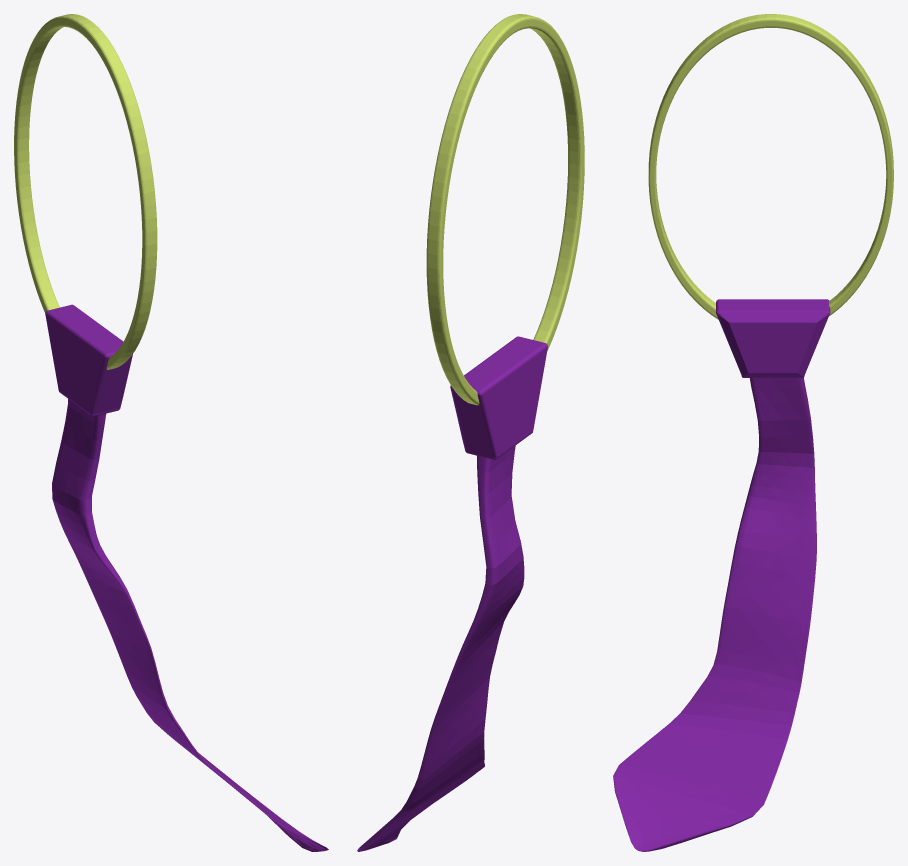
File: Tie ready.glb
3 views of the same model, side by side, from view 1: azimuth 30°, elevation 25°; view 2: azimuth 150°, elevation 25°; view 3: azimuth 270°, elevation 25° (orthographic). The views are drawn at different scales.
Visible parts, largest first — view 1: Tie-Mat.1, Tie-Mat; view 2: Tie-Mat.1, Tie-Mat; view 3: Tie-Mat.1, Tie-Mat.
Part boxes in pixels (x1,y1,x2,y2): Tie-Mat.1: (45,304,328,851); Tie-Mat: (14,14,157,369); Tie-Mat.1: (357,336,547,851); Tie-Mat: (426,14,584,405); Tie-Mat.1: (613,299,830,851); Tie-Mat: (648,14,893,319).
Bounding box in the file's own units: 0.9717 × 4.17 × 1.39.
